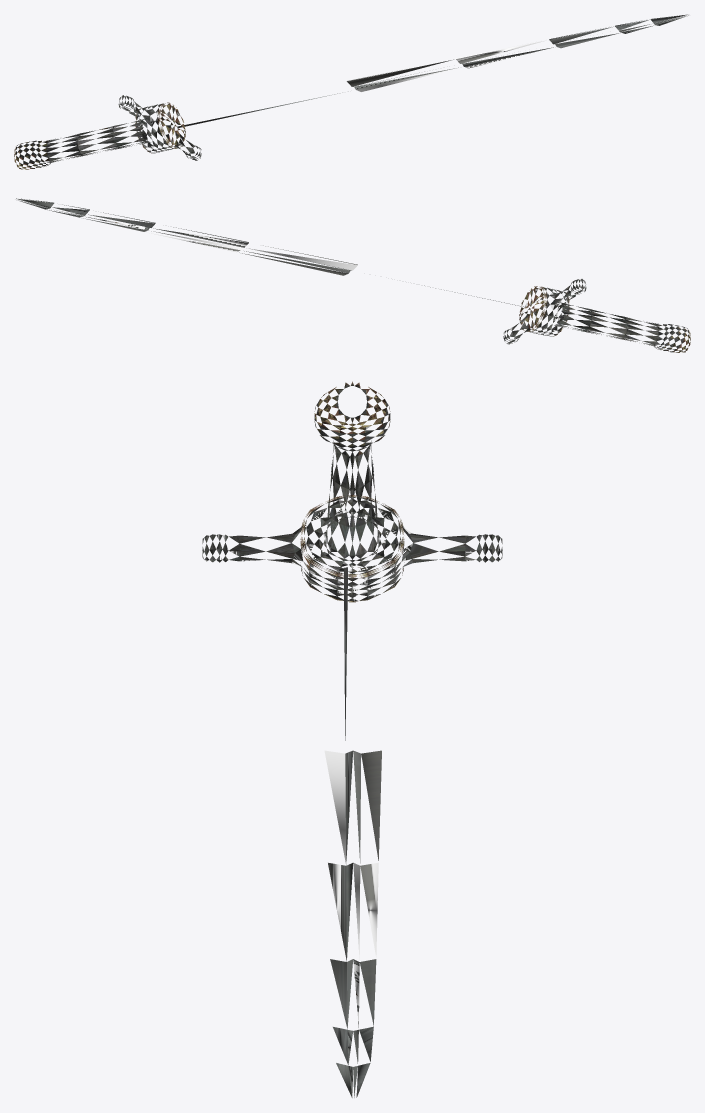
The picture shows the model from 3 angles, top to bottom: view 1: azimuth 30°, elevation 25°; view 2: azimuth 150°, elevation 25°; view 3: azimuth 270°, elevation 25°; orthographic projection. The views are drawn at different scales.
Parts seen in each view (by area): view 1: pCube1; view 2: pCube1; view 3: pCube1.
Part boxes in pixels (x1,y1,x2,y2): pCube1: (14,14,688,169); pCube1: (16,198,690,352); pCube1: (202,381,502,1097).
Size of the model in its own units: 0.2594 by 0.0157 by 0.0503.
Materials: 1 (1 with a texture image).
